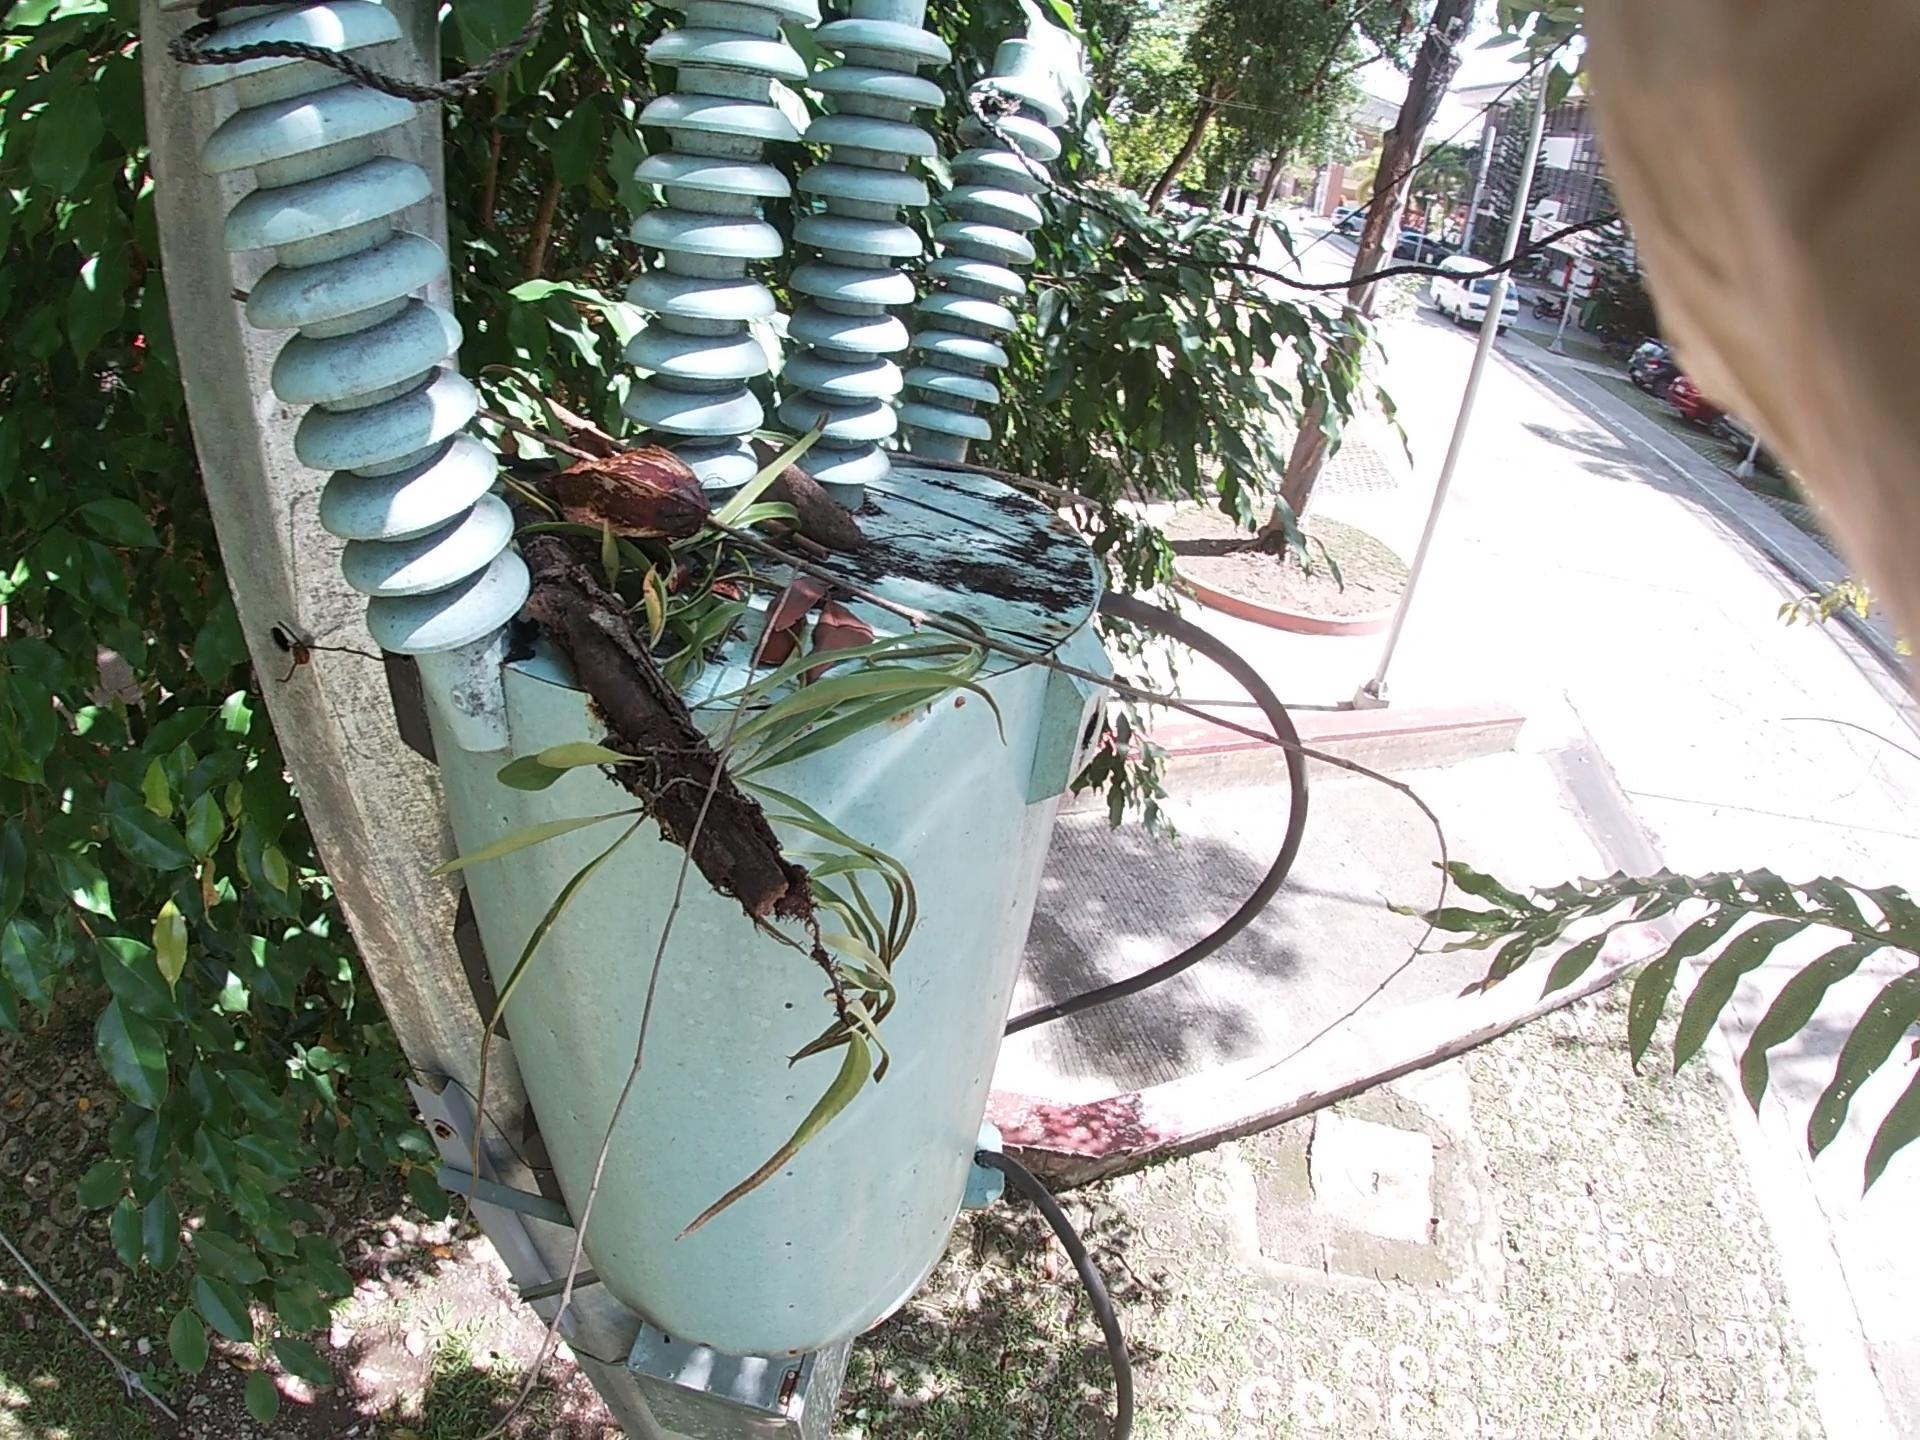branch with leaves: (277, 404, 986, 911)
leaf: (714, 573, 912, 725)
mahogany fruit: (714, 427, 1240, 529), (559, 445, 683, 551)
tree branch: (500, 411, 1450, 846), (848, 436, 1132, 554), (736, 493, 872, 585)
